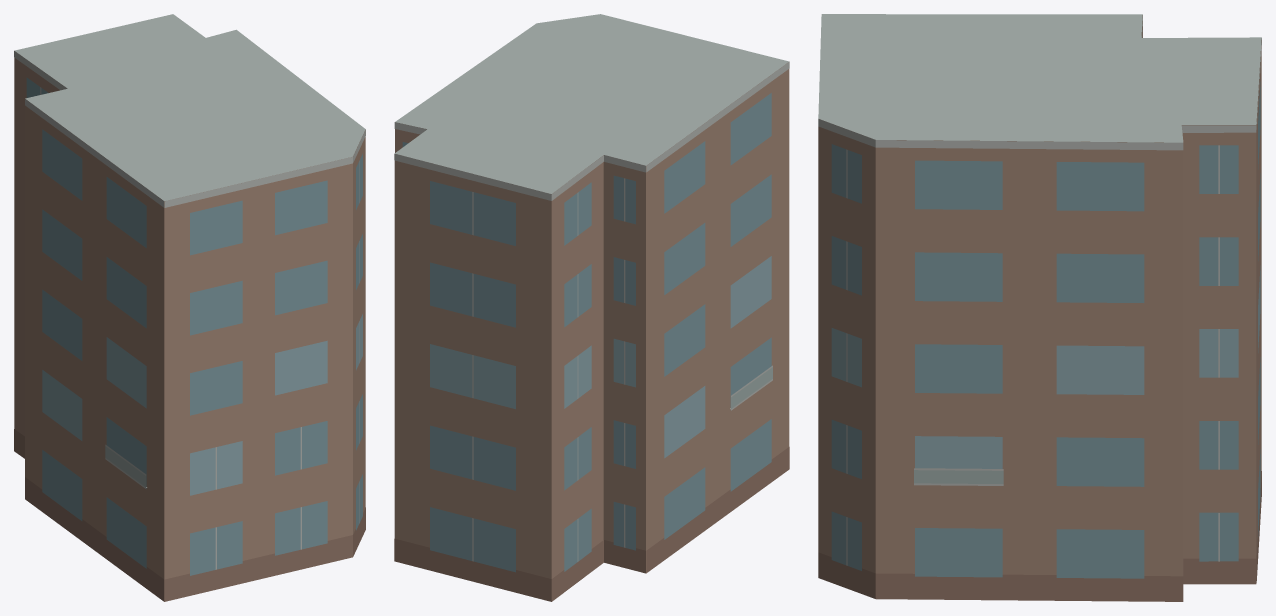
Rendered from survey-upis-32761003.glb.
3 views of the same model, side by side, from view 1: azimuth 30°, elevation 25°; view 2: azimuth 150°, elevation 25°; view 3: azimuth 270°, elevation 25° (orthographic). The views are drawn at different scales.
Parts seen in each view (by area): view 1: survey-upis-32761003.tmp; view 2: survey-upis-32761003.tmp; view 3: survey-upis-32761003.tmp.
Part boxes in pixels (<box>): survey-upis-32761003.tmp: <box>14,14,365,601</box>; survey-upis-32761003.tmp: <box>394,14,789,601</box>; survey-upis-32761003.tmp: <box>818,14,1261,601</box>.
Bounding box in the file's own units: 8.7 × 14.42 × 12.63.
